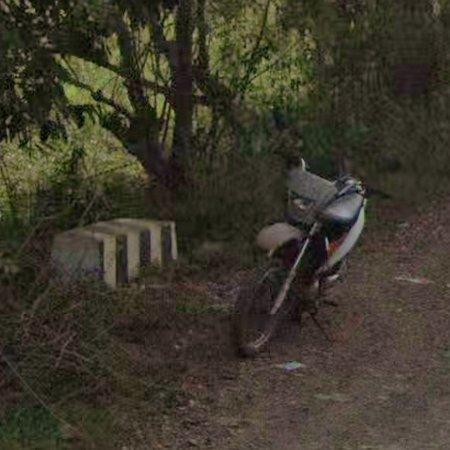motorcycles: (236, 162, 368, 358)
